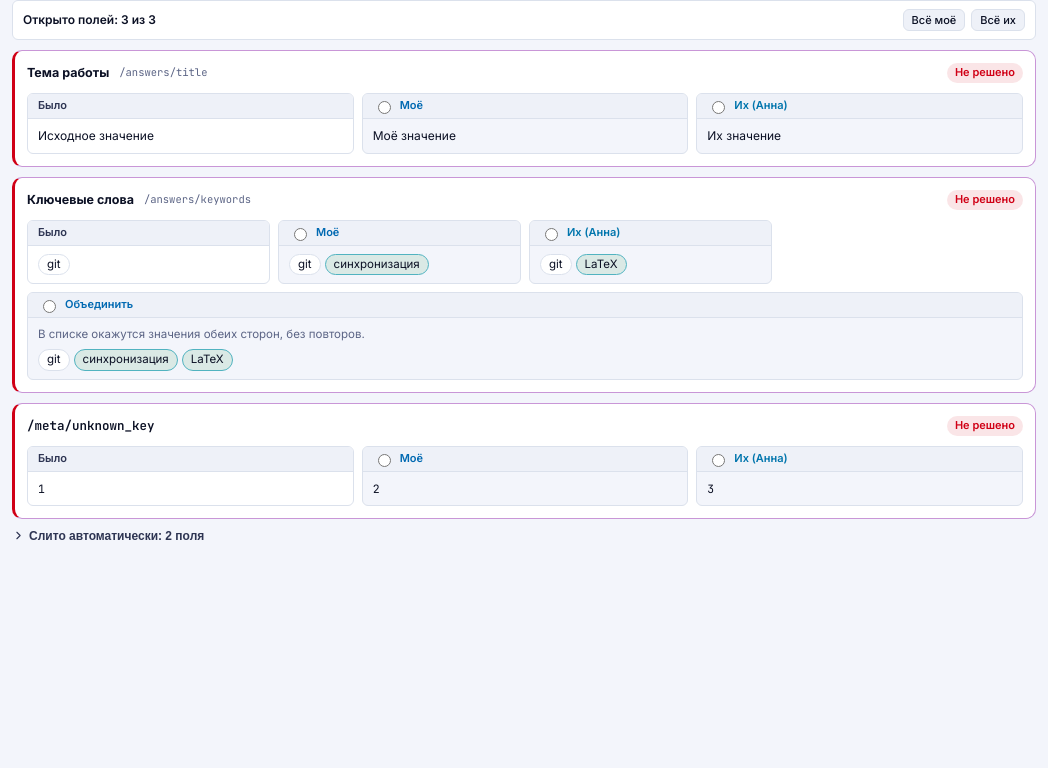
it: JsonFieldResolver › keeps the merged fields collapsed and says whose value was taken
Check: the text "Год защиты" is not shown
What coordinates should you click on to do the following:
click the button "Слито автоматически: 2 поля"
I would click on:
 (117, 536)
Its box is [12,529,1036,543].
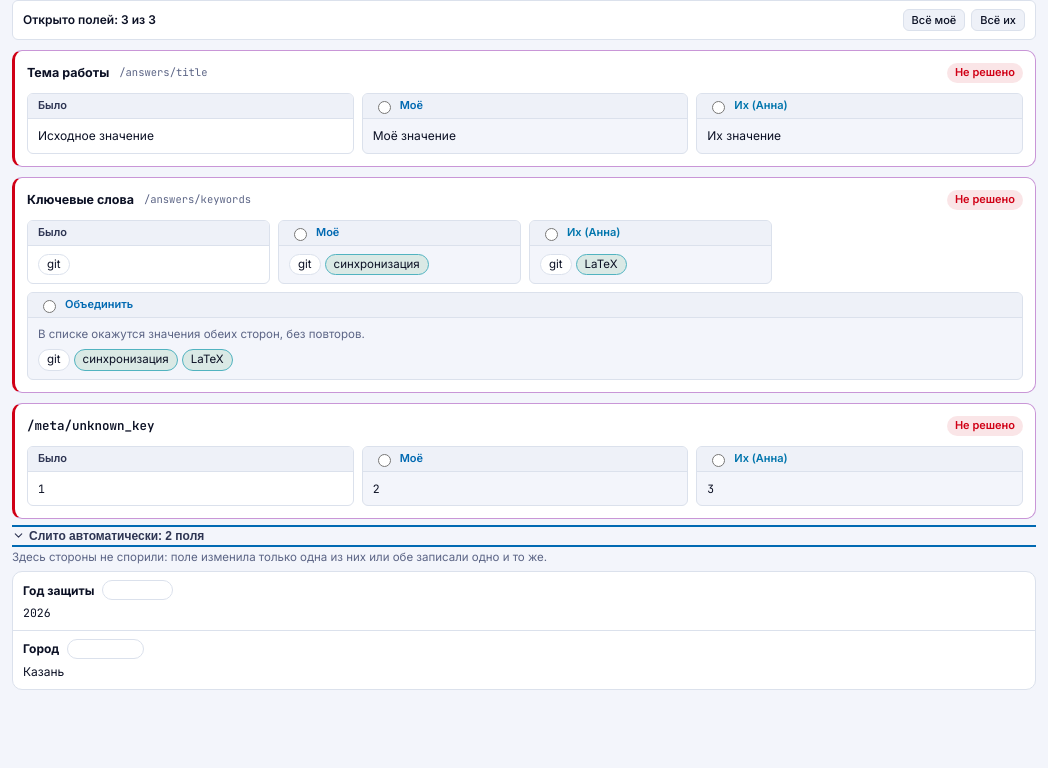
Check: the text "взято их" is shown, box [102,580,173,600]
Check: the button "Слито автоматически: 2 поля" is expanded, box [12,529,1036,543]
Check: the text "Год защиты" is shown, box [23,582,94,599]
